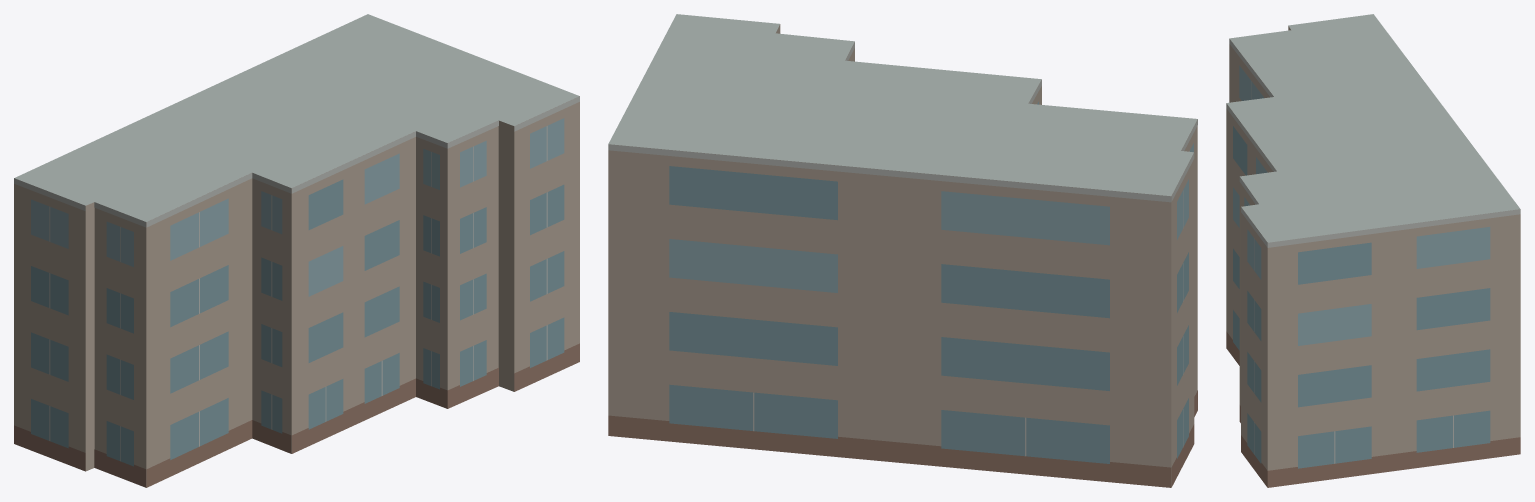
Rendered from survey-upis-33028095.glb.
3 renders of one model, left to right at view 1: azimuth 30°, elevation 25°; view 2: azimuth 150°, elevation 25°; view 3: azimuth 270°, elevation 25°, orthographic. The views are drawn at different scales.
Visible parts, largest first — view 1: survey-upis-33028095.tmp; view 2: survey-upis-33028095.tmp; view 3: survey-upis-33028095.tmp.
Part boxes in pixels (x1,y1,x2,y2): survey-upis-33028095.tmp: (14, 14, 579, 487); survey-upis-33028095.tmp: (608, 14, 1197, 487); survey-upis-33028095.tmp: (1226, 14, 1520, 487).
Size of the model in its own units: 23.23 by 11.6 by 12.63.
